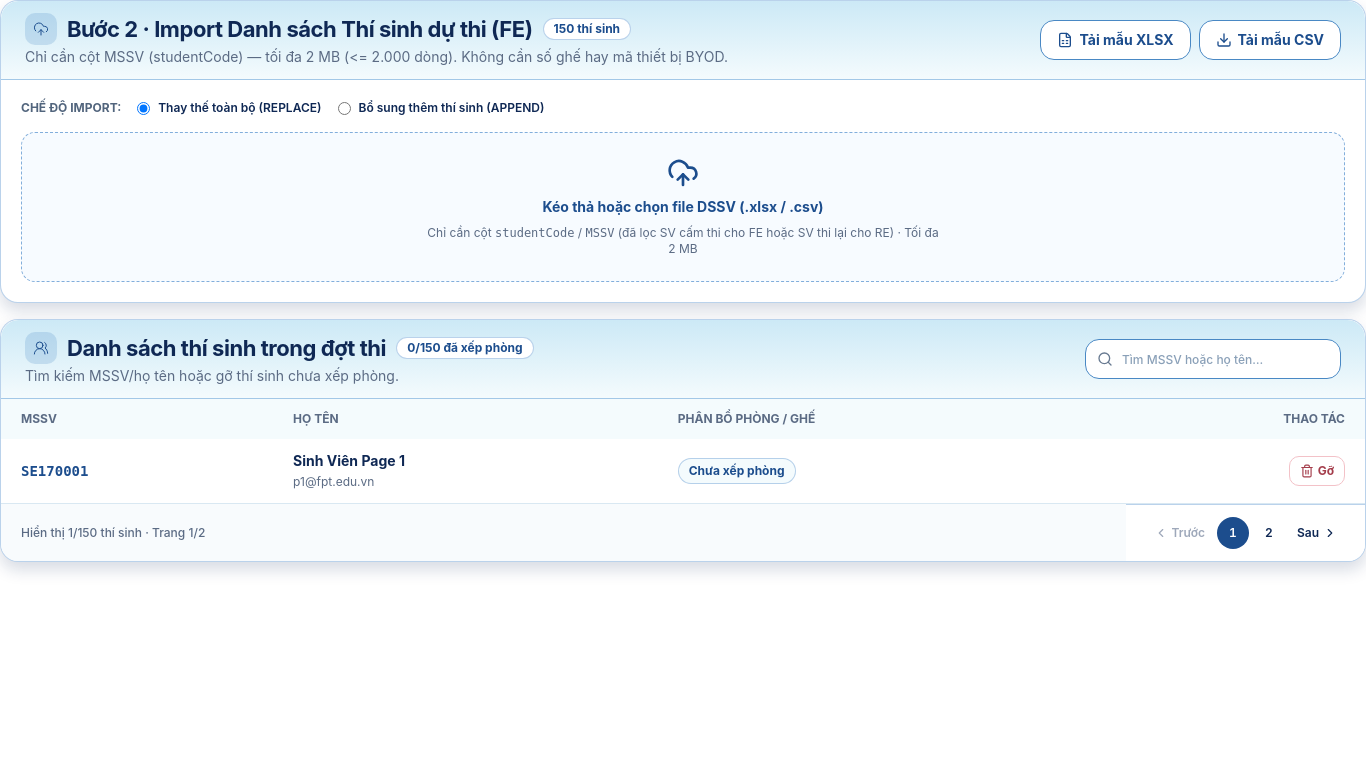
Examination Officer 6-Step MF-04 Flow & FE-3 Monitor/Audit Picker › EO-08: renders pagination and requests next page when CandidateRosterImportPanel has >100 candidates
Expected: the text "SE170001" is shown, 1,439 -> 273,503
Expected: the text "Hiển thị 1/150 thí sinh · Trang 1/2" is shown, 21,524 -> 205,540
Click the button named "Trang 2" at coordinates (1269, 533), box 1253,517 -> 1285,549
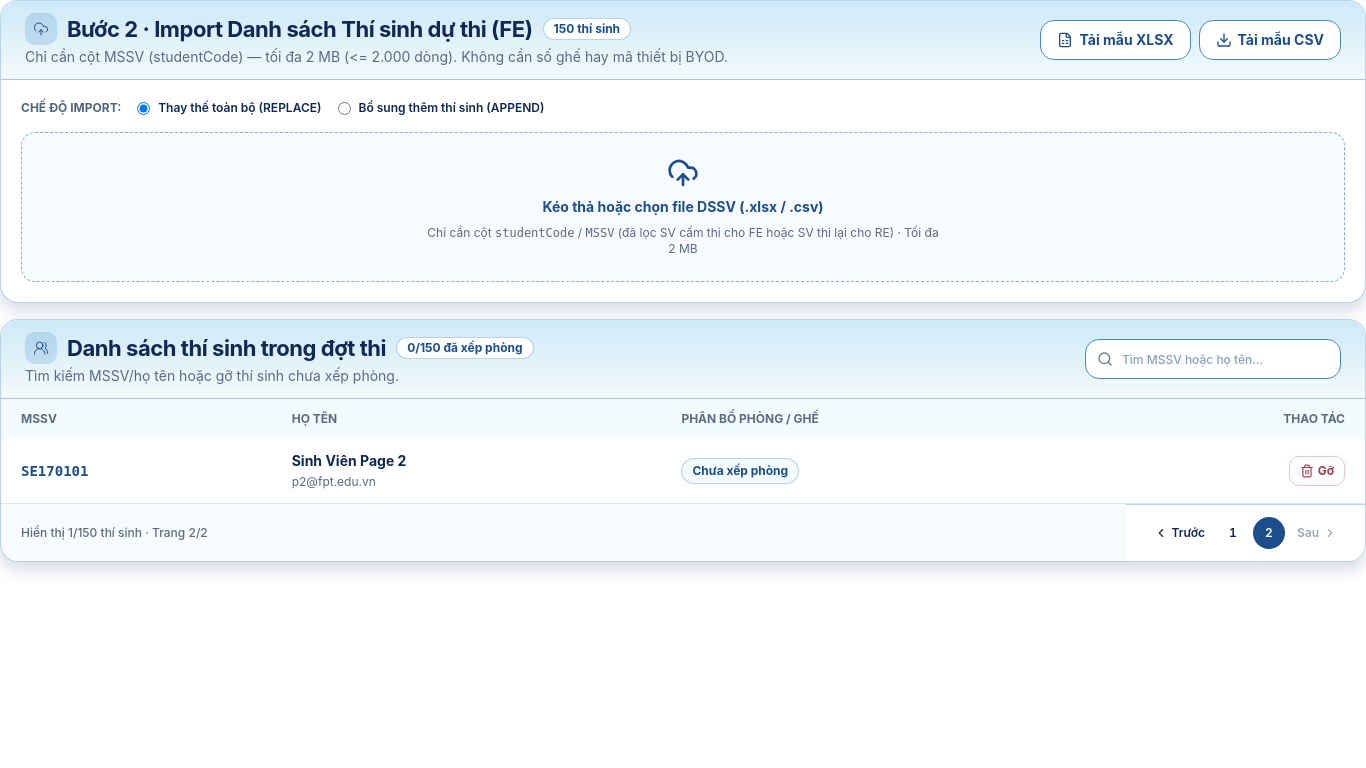
Expected: the text "SE170101" is shown, 1,439 -> 272,503
